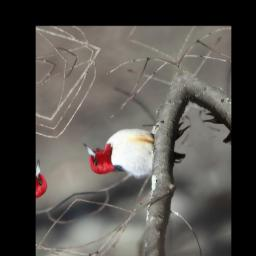Woodpecker: (82, 104, 204, 197)
